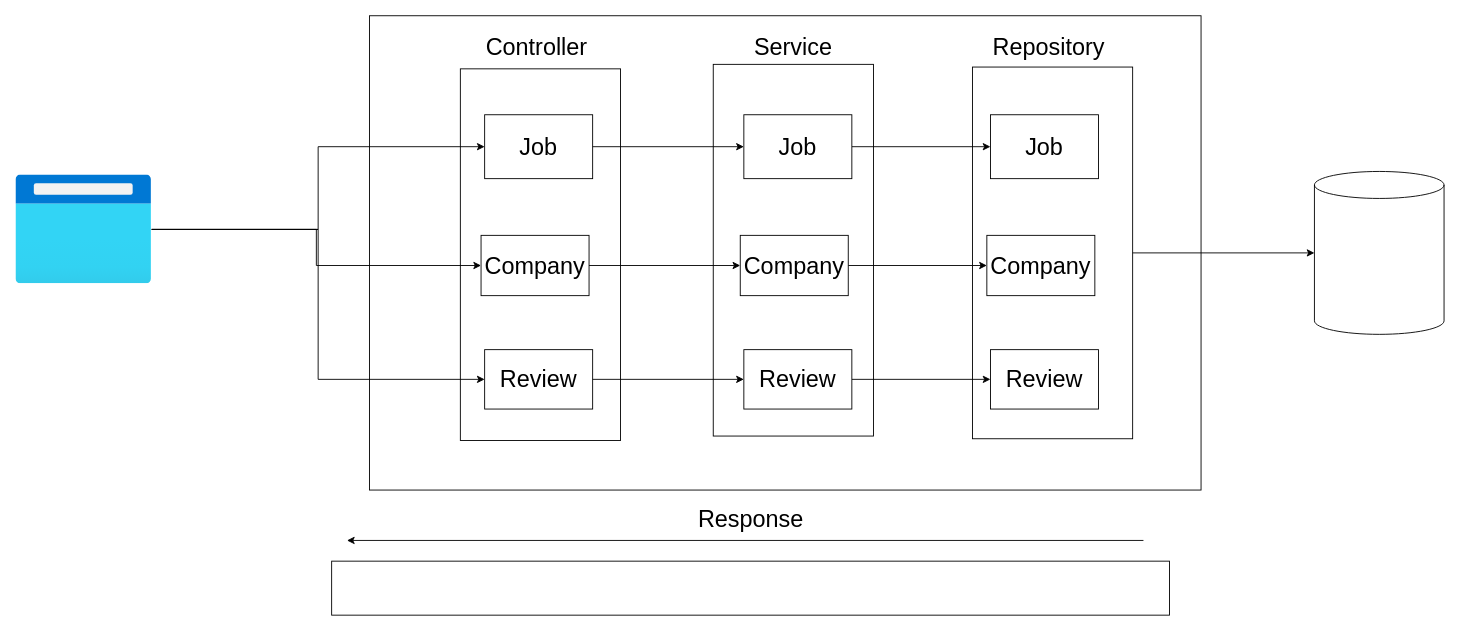
Image size: 1460x631. Some labels were removed from this diagram. The shapes that lost their labels are listed below. From the top down, each one's centre as x and y in pixels, then its label:
At pixel 83 229: "Browser".
At pixel 1379 252: "DB".
At pixel 750 587: "Server".
